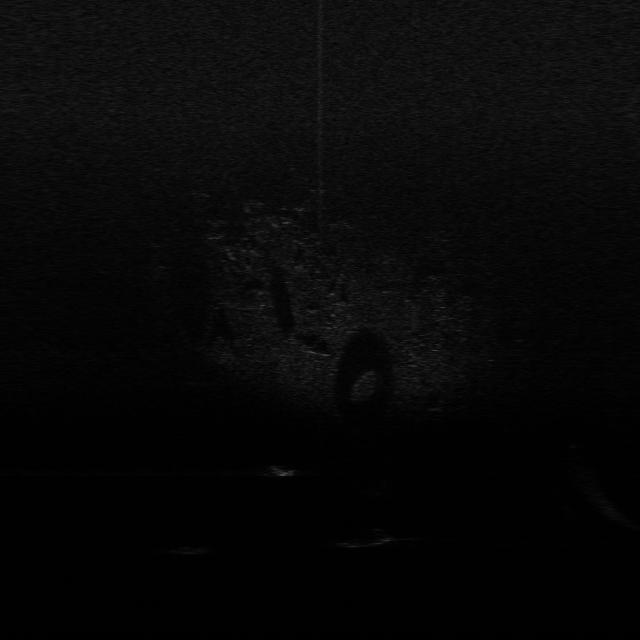cube: (166, 542, 208, 558)
square cage: (264, 462, 298, 479)
tyre: (333, 528, 397, 550)
